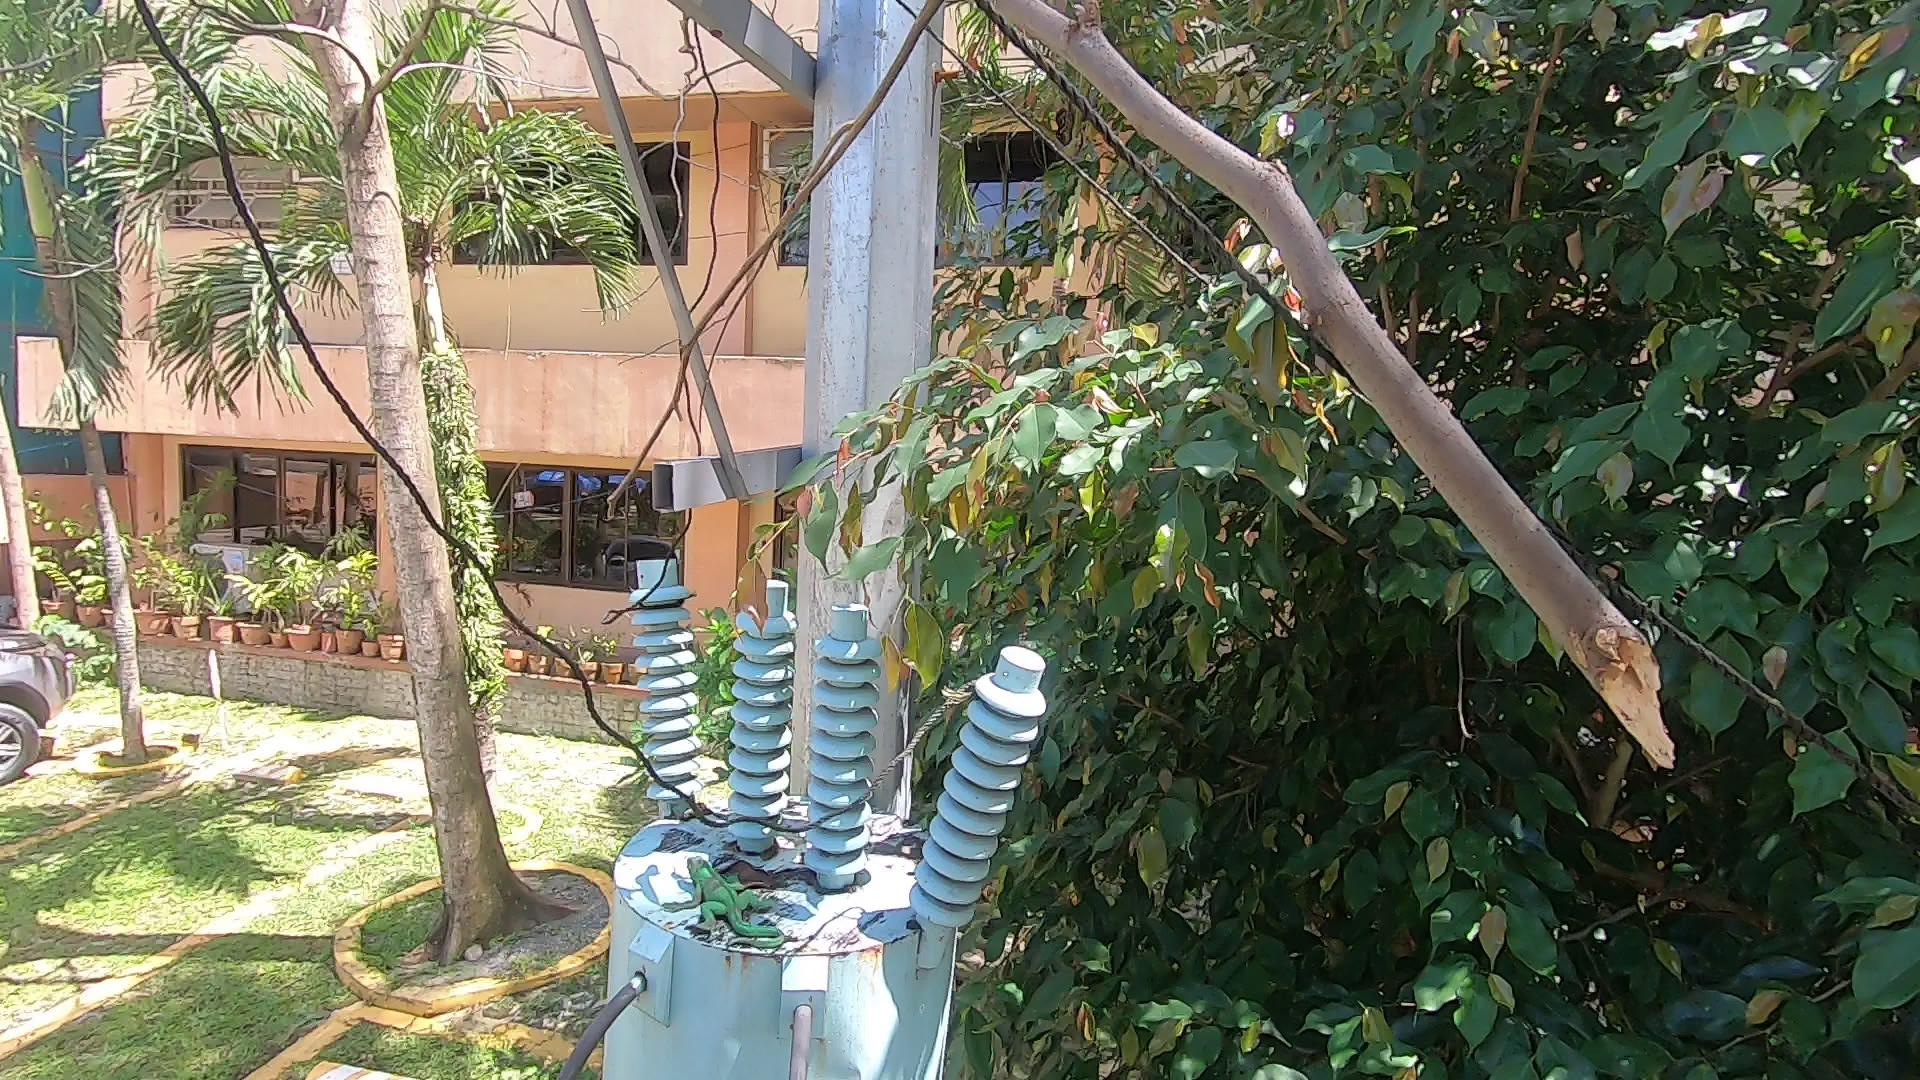branch with leaves: (669, 342, 1069, 690)
leaf: (712, 845, 833, 909), (881, 828, 928, 874), (662, 795, 709, 825)
tree branch: (787, 13, 1704, 847)
